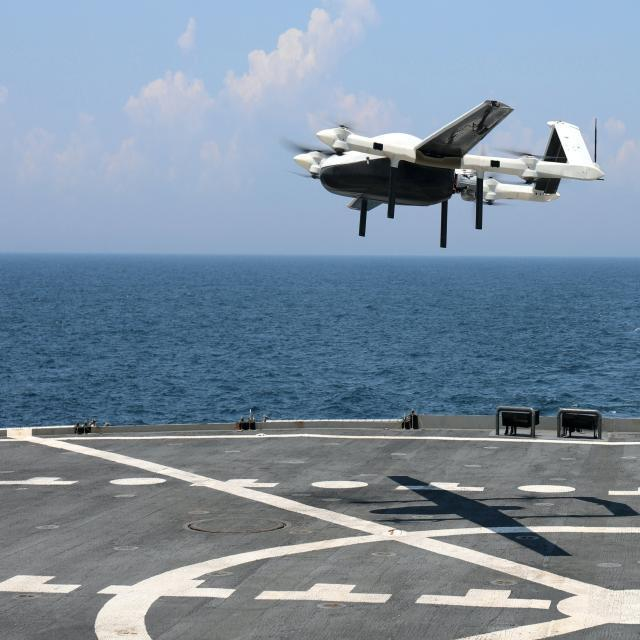iha: (275, 90, 629, 233)
